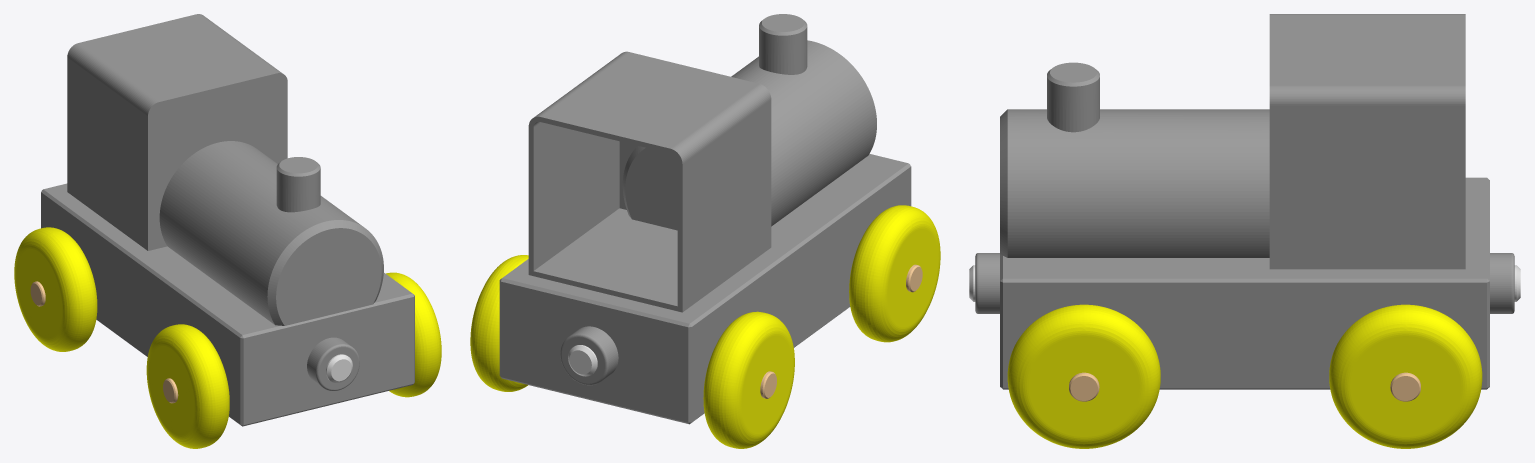
3 views of the same model, side by side, from view 1: azimuth 30°, elevation 25°; view 2: azimuth 150°, elevation 25°; view 3: azimuth 270°, elevation 25° (orthographic). The views are drawn at different scales.
Parts seen in each view (by area): view 1: out-pan, out-wheel_000-rwheel, out-wheel_001-lwheel, out-wheel_001-rwheel, out-back_coupling-cover, out-back_coupling-magnet; view 2: out-pan, out-wheel_001-lwheel, out-wheel_000-rwheel, out-wheel_000-lwheel, out-front_coupling-cover, out-front_coupling-magnet; view 3: out-pan, out-wheel_001-rwheel, out-wheel_000-lwheel, out-front_coupling-cover, out-back_coupling-cover, out-wheel_001-axle, out-wheel_000-axle.
Part boxes in pixels (left/top/right/bottom): out-pan: left=41, top=14, right=414, bottom=426; out-wheel_000-rwheel: left=14, top=227, right=97, bottom=351; out-wheel_001-lwheel: left=146, top=324, right=229, bottom=448; out-wheel_001-rwheel: left=386, top=272, right=441, bottom=397; out-back_coupling-cover: left=307, top=337, right=359, bottom=390; out-back_coupling-magnet: left=326, top=354, right=352, bottom=382; out-pan: left=499, top=14, right=911, bottom=424; out-wheel_001-lwheel: left=849, top=205, right=940, bottom=342; out-wheel_000-rwheel: left=703, top=311, right=794, bottom=448; out-wheel_000-lwheel: left=470, top=255, right=528, bottom=391; out-front_coupling-cover: left=560, top=326, right=618, bottom=385; out-front_coupling-magnet: left=568, top=345, right=597, bottom=376; out-pan: left=1000, top=14, right=1489, bottom=389; out-wheel_001-rwheel: left=1007, top=304, right=1160, bottom=448; out-wheel_000-lwheel: left=1329, top=304, right=1482, bottom=448; out-front_coupling-cover: left=1490, top=253, right=1514, bottom=313; out-back_coupling-cover: left=975, top=253, right=999, bottom=313; out-wheel_001-axle: left=1069, top=372, right=1099, bottom=401; out-wheel_000-axle: left=1390, top=372, right=1420, bottom=401.
Bounding box in the file's own units: 0.023 × 0.024 × 0.036.
